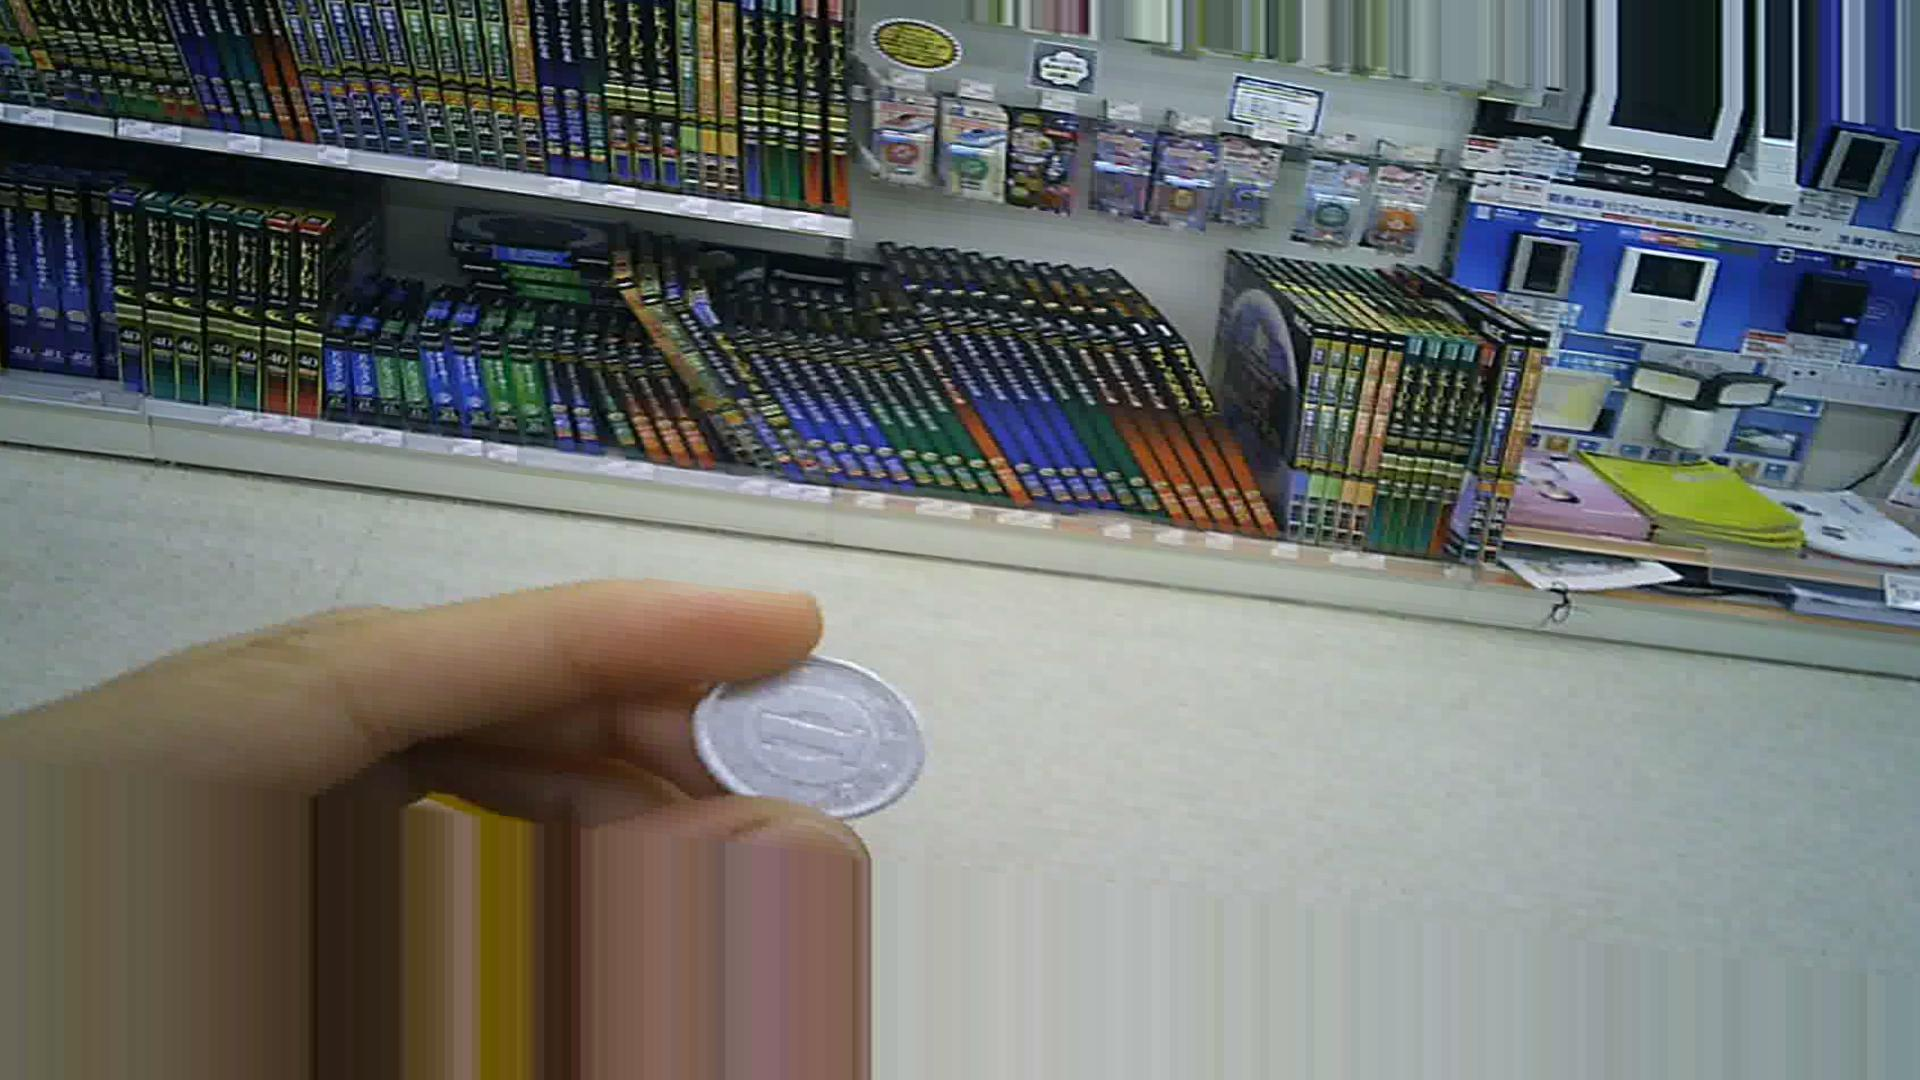1 Yen: (682, 633, 932, 829)
